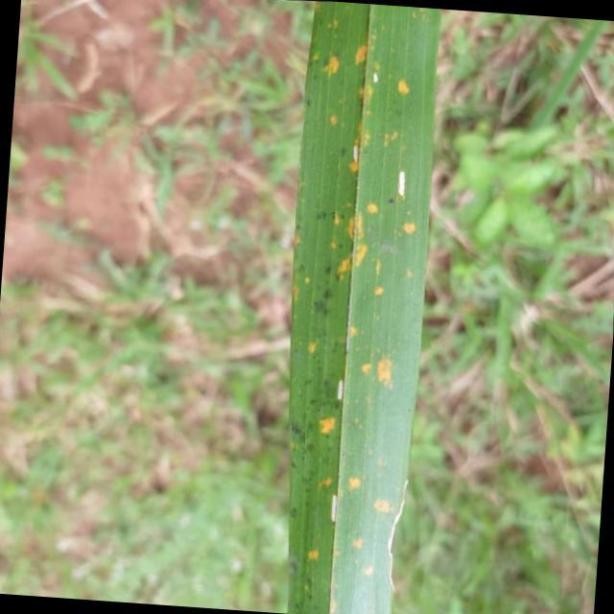Kalium: (291, 0, 440, 614)
